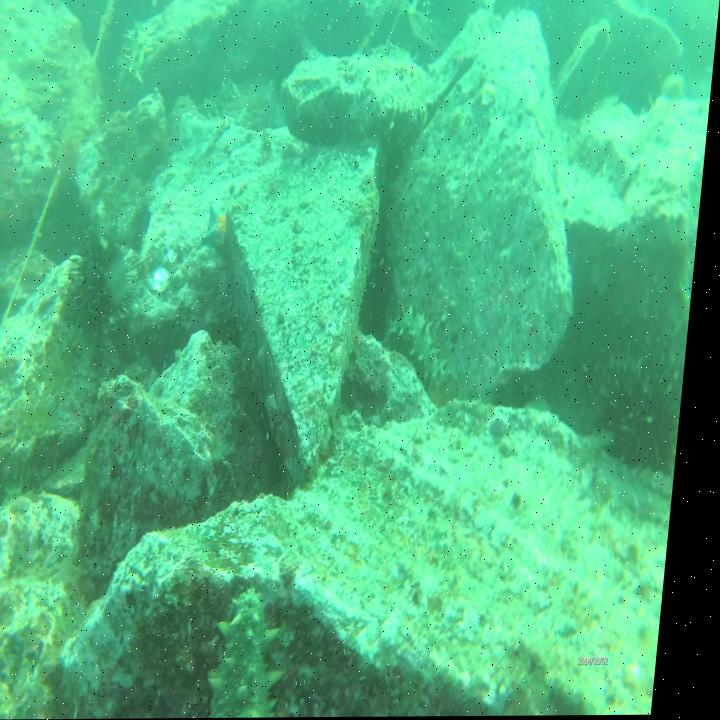echinus: (608, 364, 689, 480), (66, 221, 132, 327)
holothurian: (216, 586, 309, 718), (386, 298, 459, 394), (119, 17, 155, 79), (201, 72, 240, 118)
starfish: (203, 198, 235, 257)
